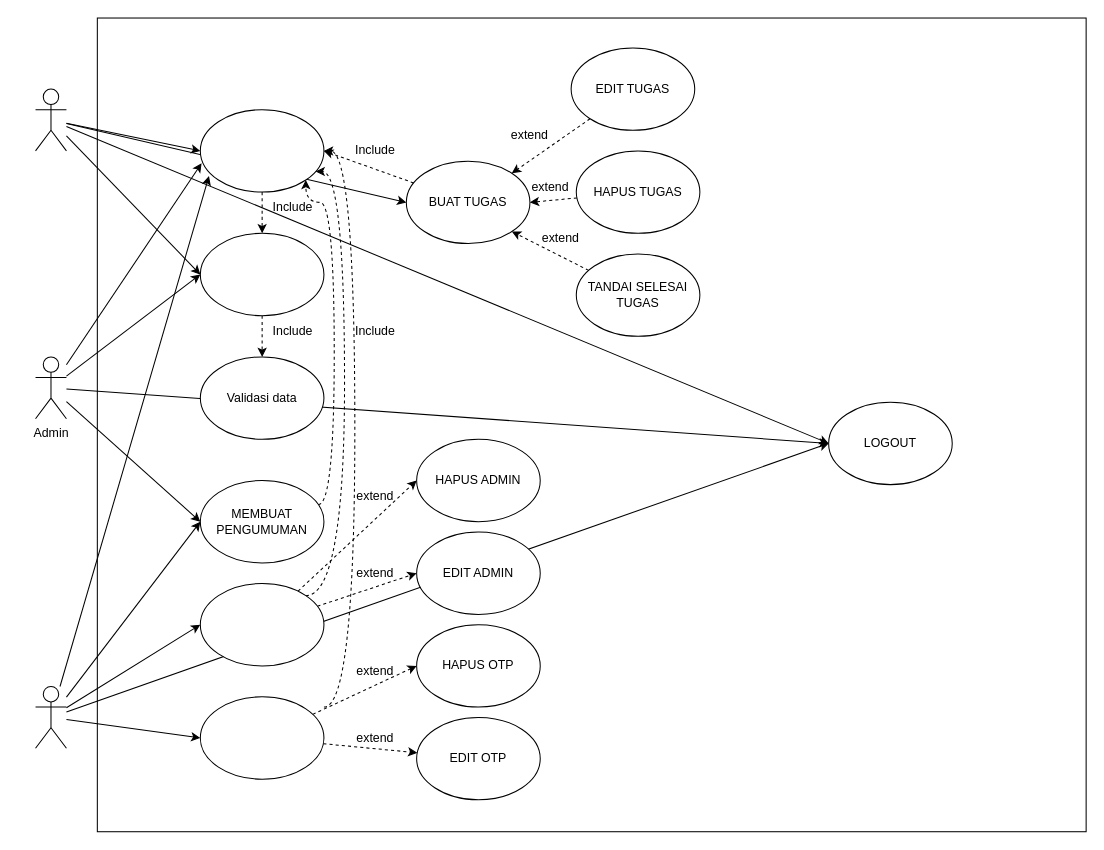
Some shapes in this 1104 by 850 pixel diagram are drawn without their labels. The shapes that lost their labels are listed below. From the top down, each one's centre as x and y in pixels, then its label:
At (x=50, y=119): "User".
At (x=261, y=150): "LOGIN".
At (x=261, y=274): "DAFTAR".
At (x=261, y=624): "MENGATUR ADMIN".
At (x=50, y=716): "Superadmin".
At (x=261, y=737): "MENGATUR OTP".
